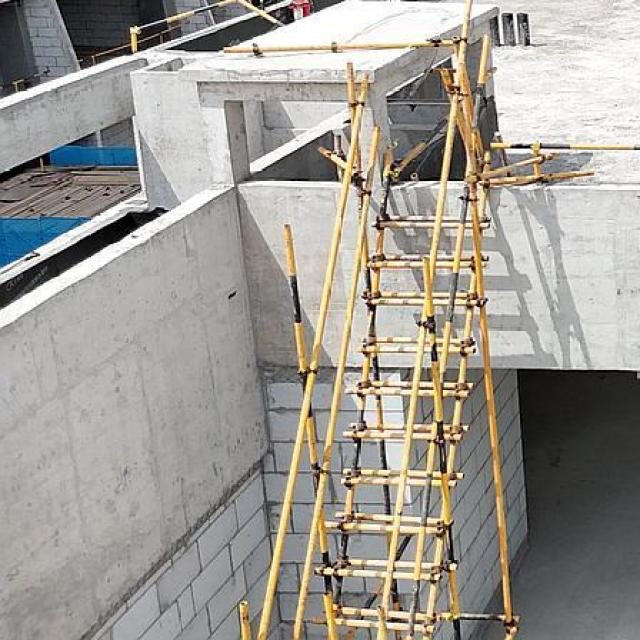edge_guardrail: (392, 66, 497, 178), (128, 0, 287, 54), (478, 138, 640, 185), (79, 24, 180, 66), (0, 68, 51, 92)
